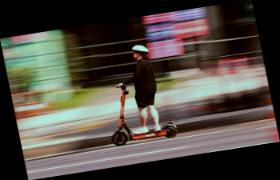helmet: (94, 39, 181, 148)
